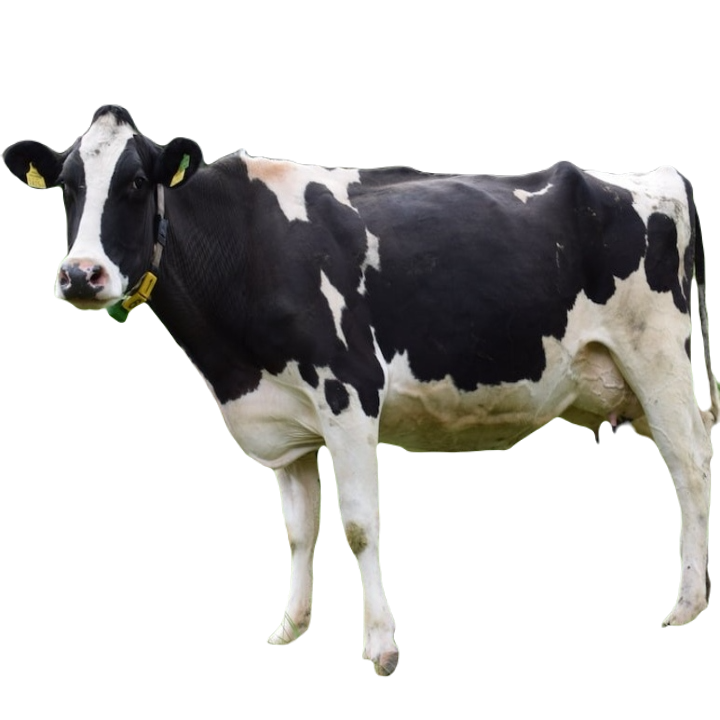Cow: (0, 101, 714, 677)
